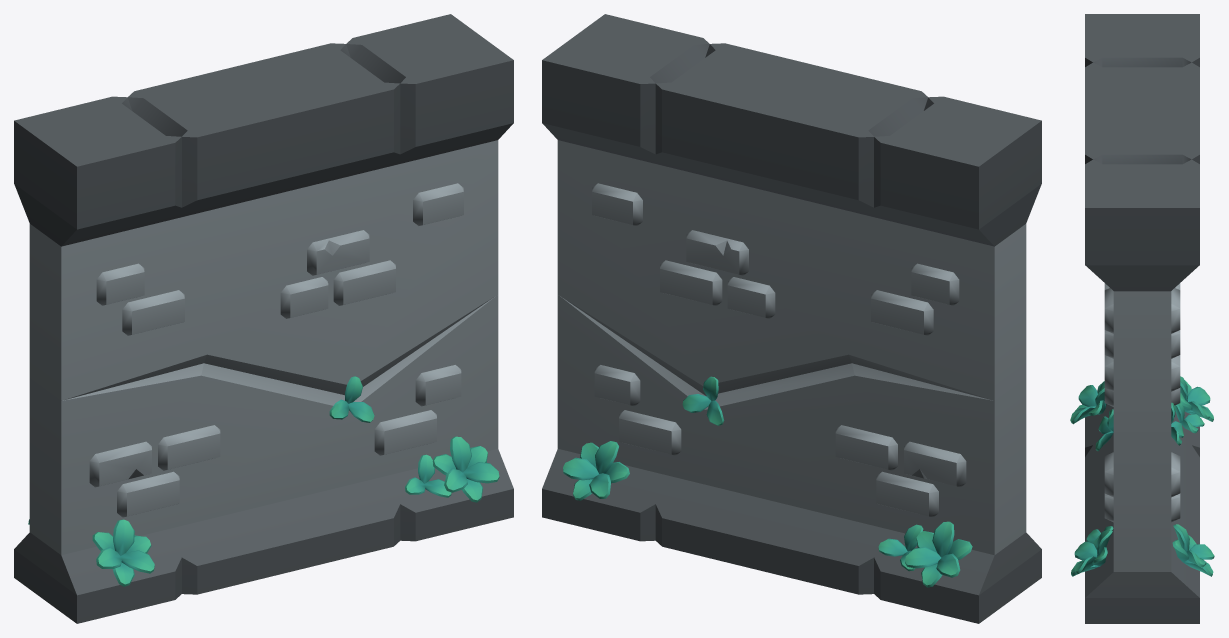
The model's file is wall_cracked.gltf.
3 views of the same model, side by side, from view 1: azimuth 30°, elevation 25°; view 2: azimuth 150°, elevation 25°; view 3: azimuth 270°, elevation 25° (orthographic). The views are drawn at different scales.
Visible parts, largest first — view 1: wall_cracked; view 2: wall_cracked; view 3: wall_cracked.
Boxes of the visible parts, x1,y1,x2,y2 form: wall_cracked: (14,14,513,623); wall_cracked: (542,14,1041,623); wall_cracked: (1070,14,1214,623).
Bounding box in the file's own units: 4 × 4 × 1.26.
1 material, 1 textured.
